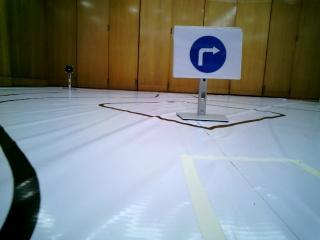right: (176, 27, 237, 78)
